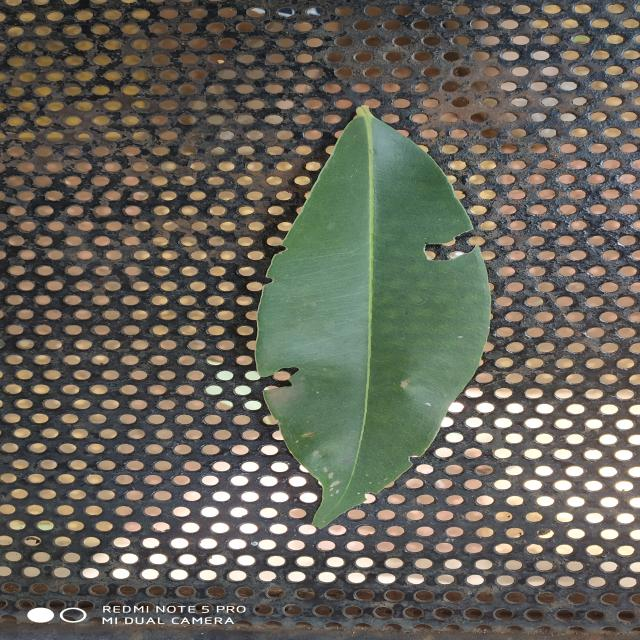nerale: (256, 106, 491, 528)
